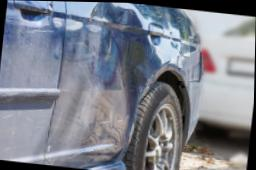Door: (50, 1, 160, 170)
